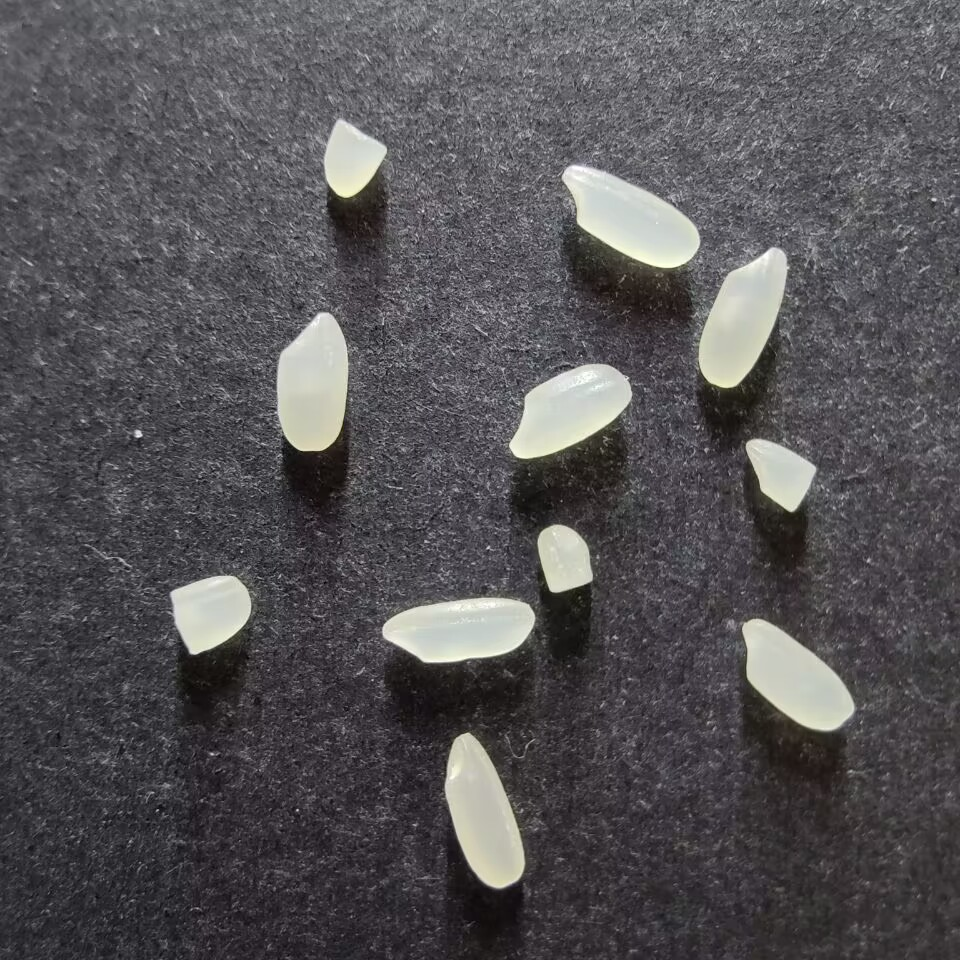broken: (169, 575, 251, 654), (744, 437, 816, 513), (323, 119, 387, 197), (537, 524, 593, 593)
rice: (561, 165, 700, 268), (741, 617, 854, 731), (697, 247, 787, 387), (444, 733, 524, 888), (508, 363, 632, 459), (275, 311, 348, 451), (381, 597, 535, 662)
